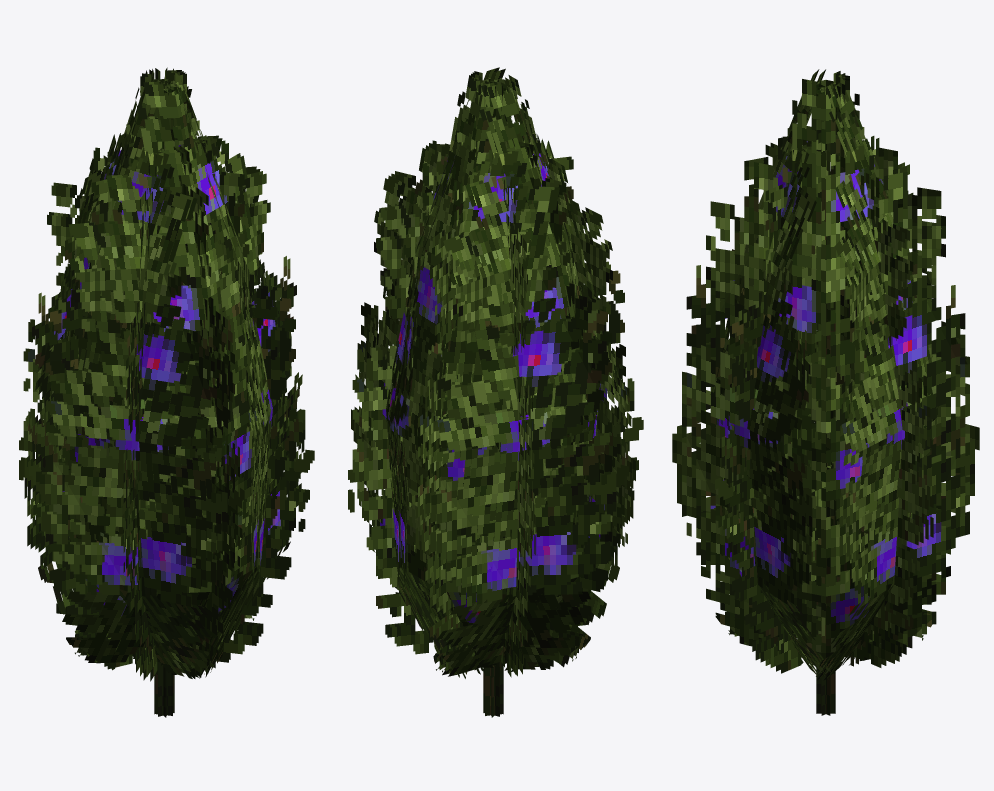
Rendered from bush05_spring3.glb.
3 renders of one model, left to right at view 1: azimuth 30°, elevation 25°; view 2: azimuth 150°, elevation 25°; view 3: azimuth 270°, elevation 25°, orthographic.
Parts seen in each view (by area): view 1: bush05; view 2: bush05; view 3: bush05.
Part boxes in pixels (box(x1,y1,x2,y2)): bush05: box(19, 67, 314, 717); bush05: box(348, 67, 643, 717); bush05: box(672, 69, 979, 715).
Size of the model in its own units: 0.66 by 1.5 by 0.66.
1 material, 1 textured.
